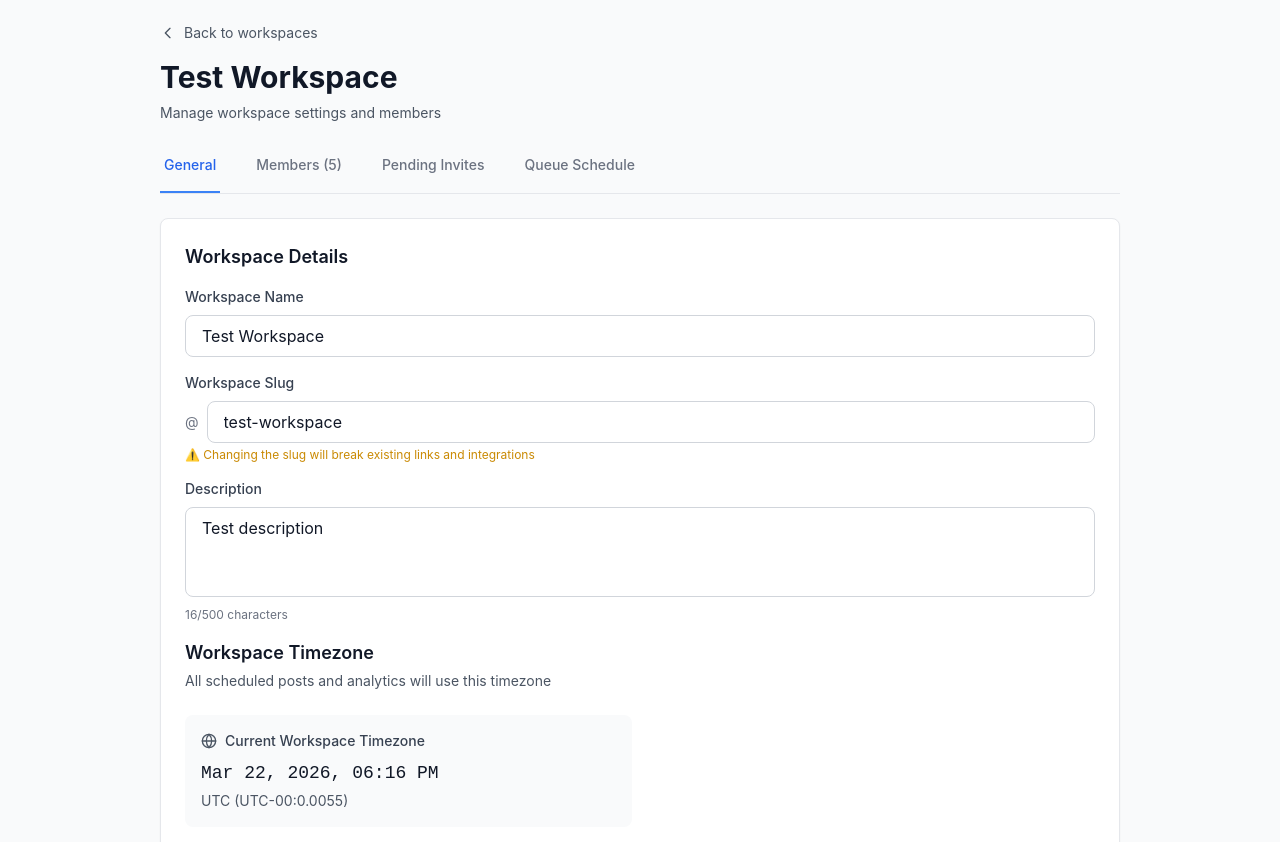
Test case: workspace name › shows a success toast after save resolves
Replace the text in the field showing "Test Workspace" below "Workspace Name" with "Updated Workspace" at (640, 336), box [185,315,1095,357]
(page scrolled)
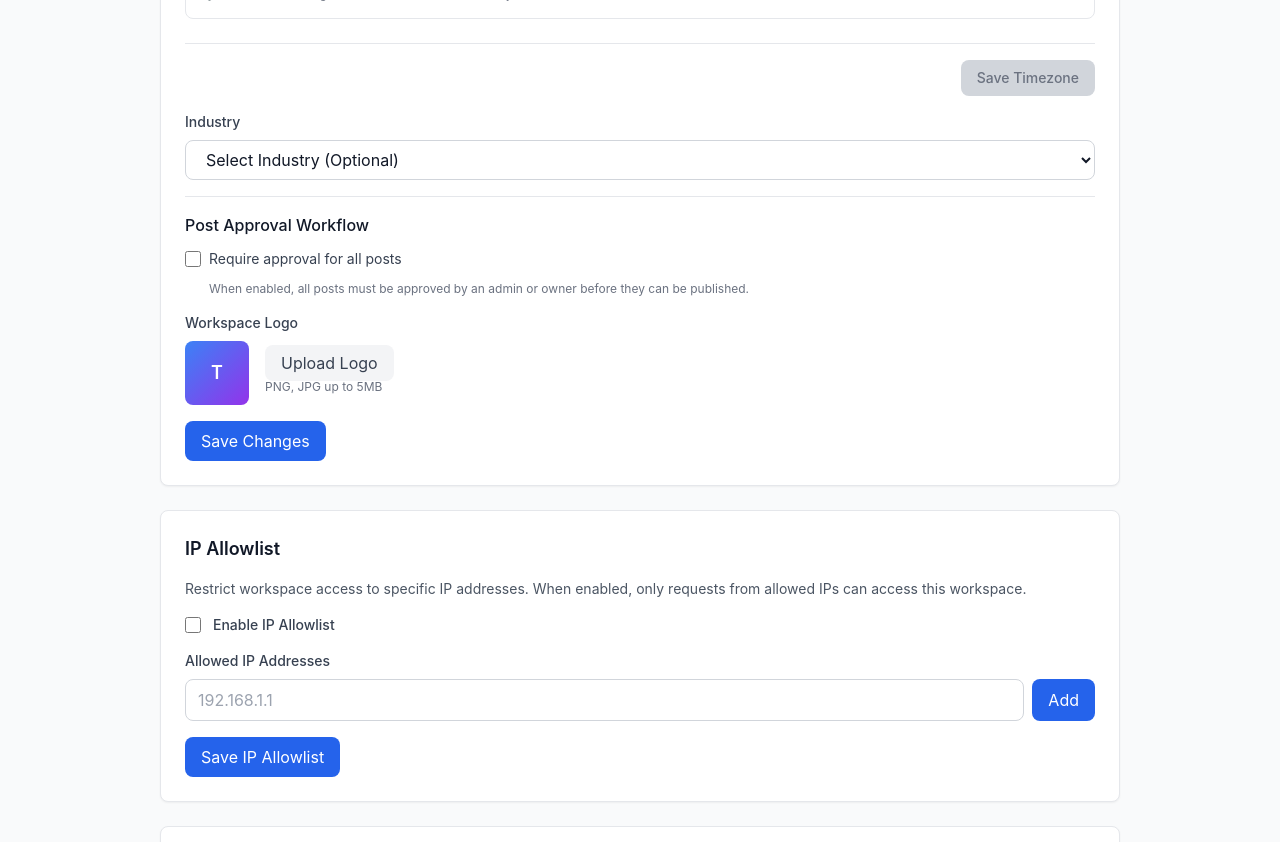
Click the button "Save Changes".
click(255, 441)  # box [185,421,326,461]
(page scrolled)
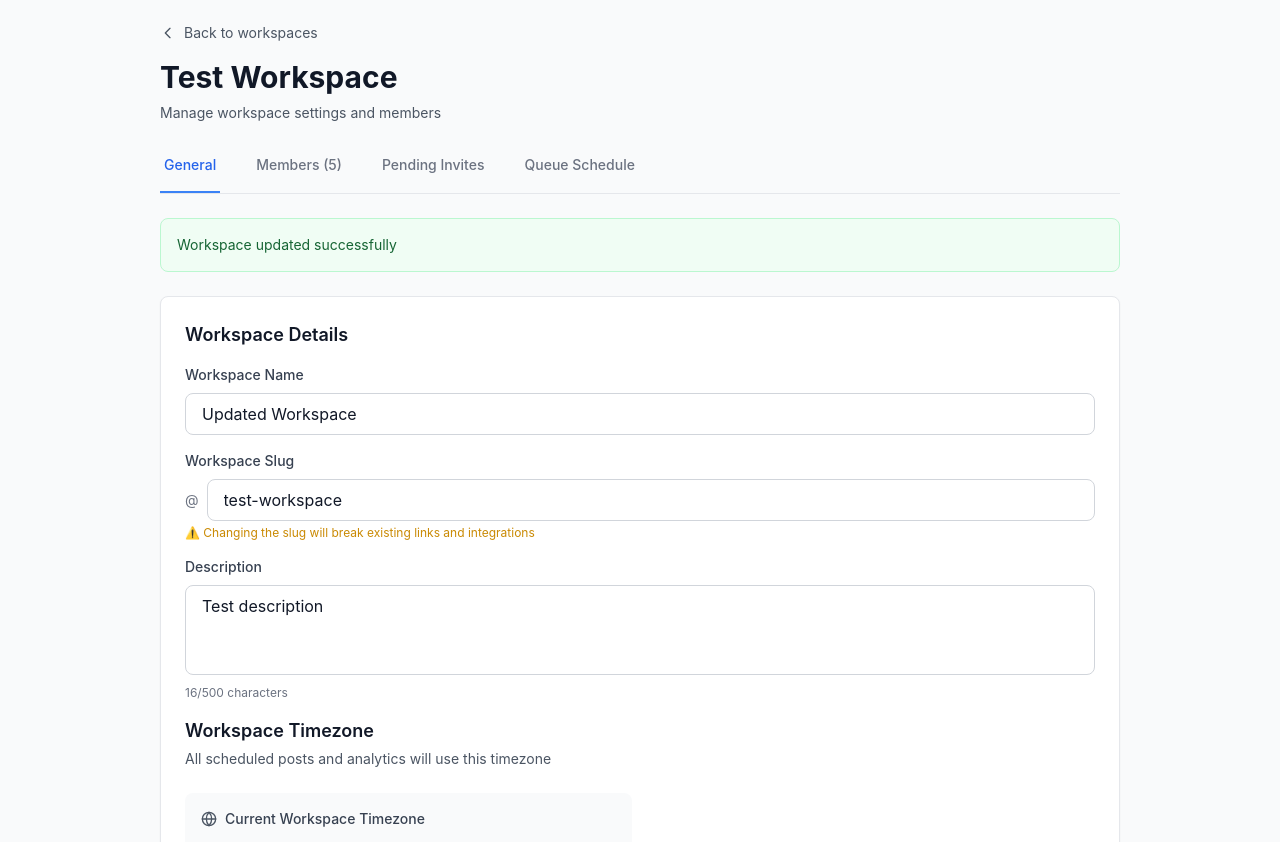
Check: the text "Workspace updated successfully" is shown, box [177,236,397,253]
